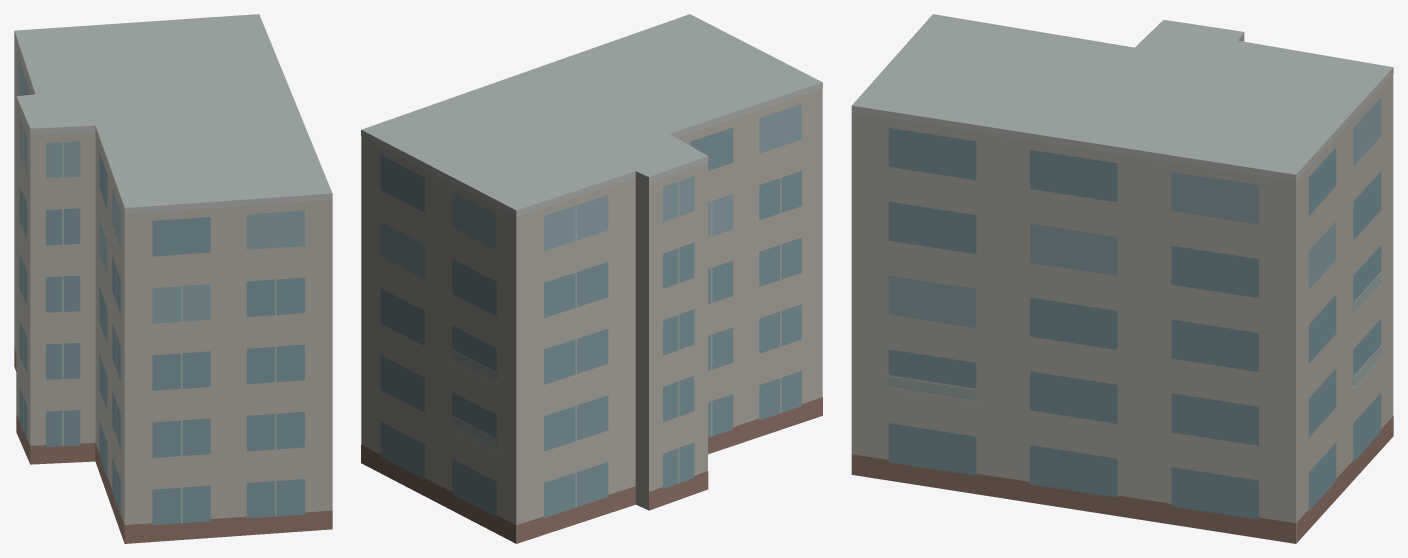
File: survey-upis-32589642.glb
3 renders of one model, left to right at view 1: azimuth 30°, elevation 25°; view 2: azimuth 150°, elevation 25°; view 3: azimuth 270°, elevation 25°, orthographic. The views are drawn at different scales.
Visible parts, largest first — view 1: survey-upis-32589642.tmp; view 2: survey-upis-32589642.tmp; view 3: survey-upis-32589642.tmp.
Boxes of the visible parts, x1=… form: survey-upis-32589642.tmp: x1=14, y1=14, x2=332, y2=543; survey-upis-32589642.tmp: x1=361, y1=14, x2=822, y2=543; survey-upis-32589642.tmp: x1=851, y1=14, x2=1393, y2=543.
Size of the model in its own units: 12.25 by 13.1 by 17.44.
